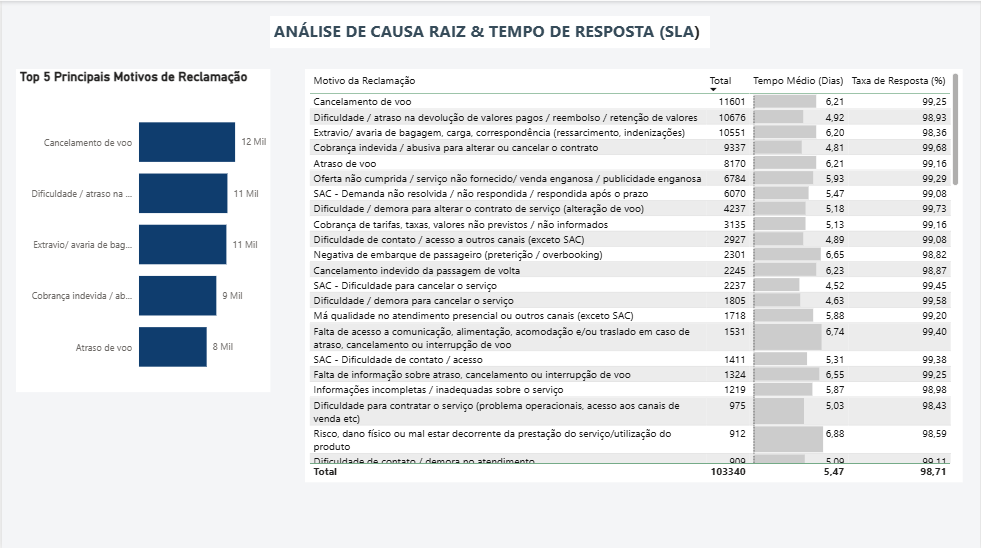

This screenshot's page, from the dashboard's own definition file:
{"tool":"powerbi","page":{"name":"Causa Raiz & Pódio","canvas":[1280,720],"ordinal":1},"visuals":[{"type":"textbox","box":[351.4,20.2,576,41.8],"z":0},{"type":"barChart","title":"Top 5 Principais Motivos de Reclamação","fields":{"Category":["ranking_problemas.motivo_problema"],"Y":["Sum(ranking_problemas.total_reclamacoes)"]},"box":[18.7,89.3,332.6,423.4],"z":1000},{"type":"tableEx","fields":{"Values":["causa_raiz_problemas.motivo_problema","Sum(causa_raiz_problemas.total_reclamacoes)","Avg(causa_raiz_problemas.tempo_resposta_dias)","Avg(causa_raiz_problemas.taxa_resposta_pct)"]},"box":[396,89.3,861.1,541.4],"z":1001}]}

Visuals, with their boxes in screenshot pixels (x1, y1, x2, y2), scaled from the page's 1280x720 canvas onto the 981x548 screenshot:
textbox: [x1=269, y1=15, x2=711, y2=47]
"Top 5 Principais Motivos de Reclamação" barChart: [x1=14, y1=68, x2=269, y2=390]
tableEx - causa_raiz_problemas.motivo_problema x Sum(causa_raiz_problemas.total_reclamacoes): [x1=303, y1=68, x2=963, y2=480]
